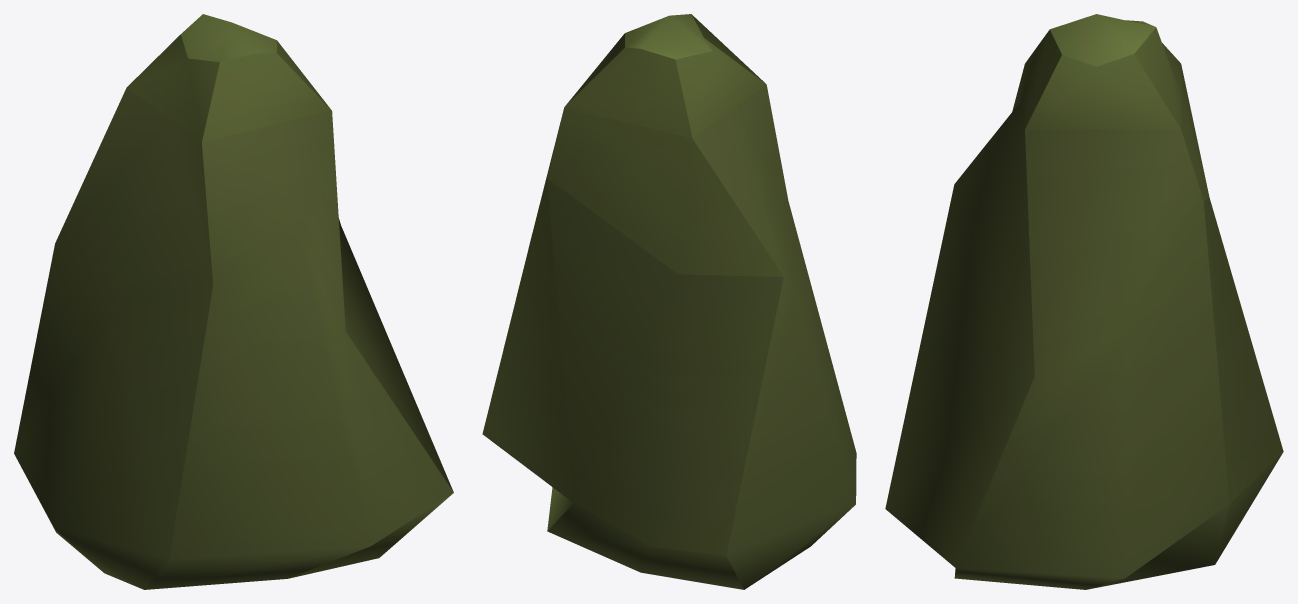
The model's file is arbustocontextura.fbx.
The picture shows the model from 3 angles, left to right: view 1: azimuth 30°, elevation 25°; view 2: azimuth 150°, elevation 25°; view 3: azimuth 270°, elevation 25°; orthographic projection. The views are drawn at different scales.
Visible parts, largest first — view 1: pCube1; view 2: pCube1; view 3: pCube1.
Boxes of the visible parts, x1=… form: pCube1: x1=14, y1=14, x2=453, y2=589; pCube1: x1=482, y1=14, x2=856, y2=589; pCube1: x1=885, y1=14, x2=1283, y2=589.
Size of the model in its own units: 2.28 by 3.13 by 2.11.
1 material, 1 textured.
